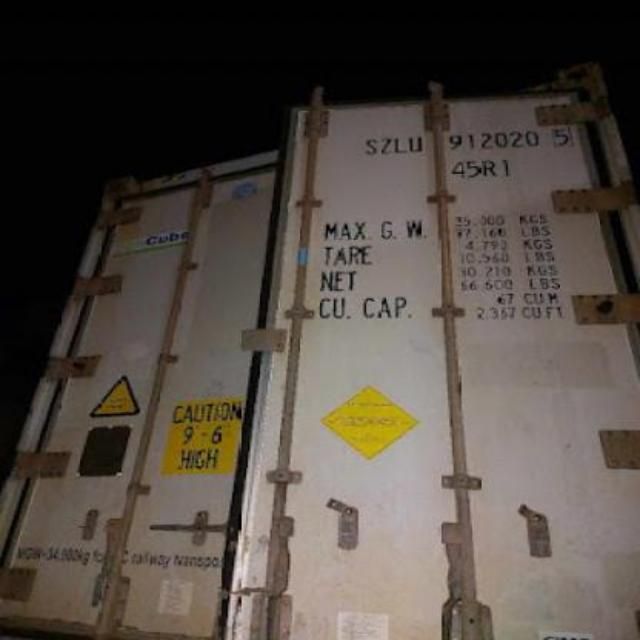0: (520, 122, 542, 152), (494, 126, 508, 150)
1: (460, 125, 476, 151)
2: (476, 127, 494, 151), (508, 122, 522, 152)
5: (548, 123, 574, 147)
9: (444, 126, 462, 152)
L: (390, 128, 406, 156)
S: (362, 132, 378, 156)
U: (408, 130, 424, 158)
Z: (378, 133, 392, 157)
